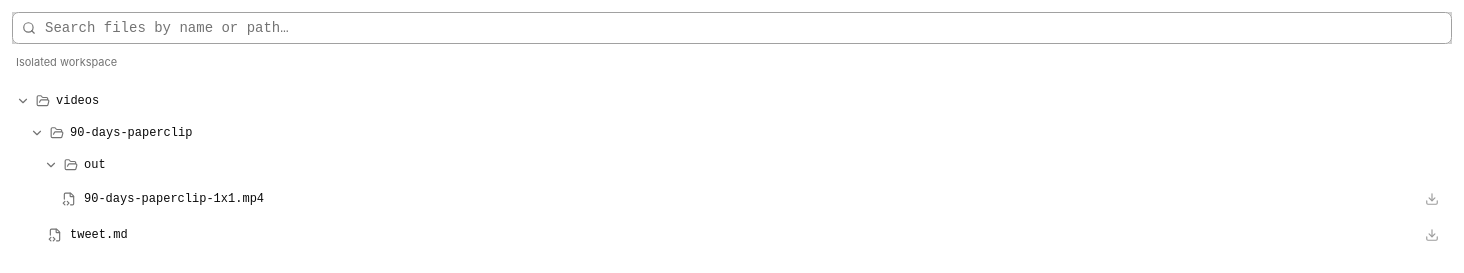
Scenario: WorkspaceFileBrowser › groups nested paths into collapsible folder rows instead of repeating full paths
Click the list item "videos": [78, 100] box [12,84,1452,116]
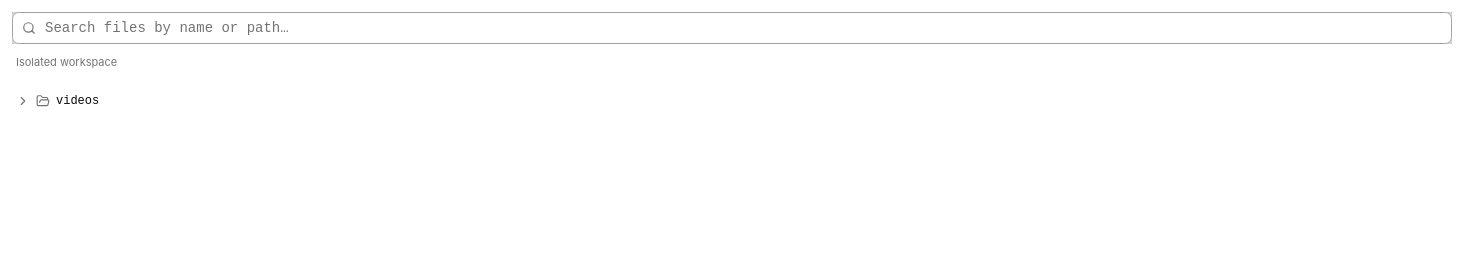
Expected: the text "tweet.md" is gone
